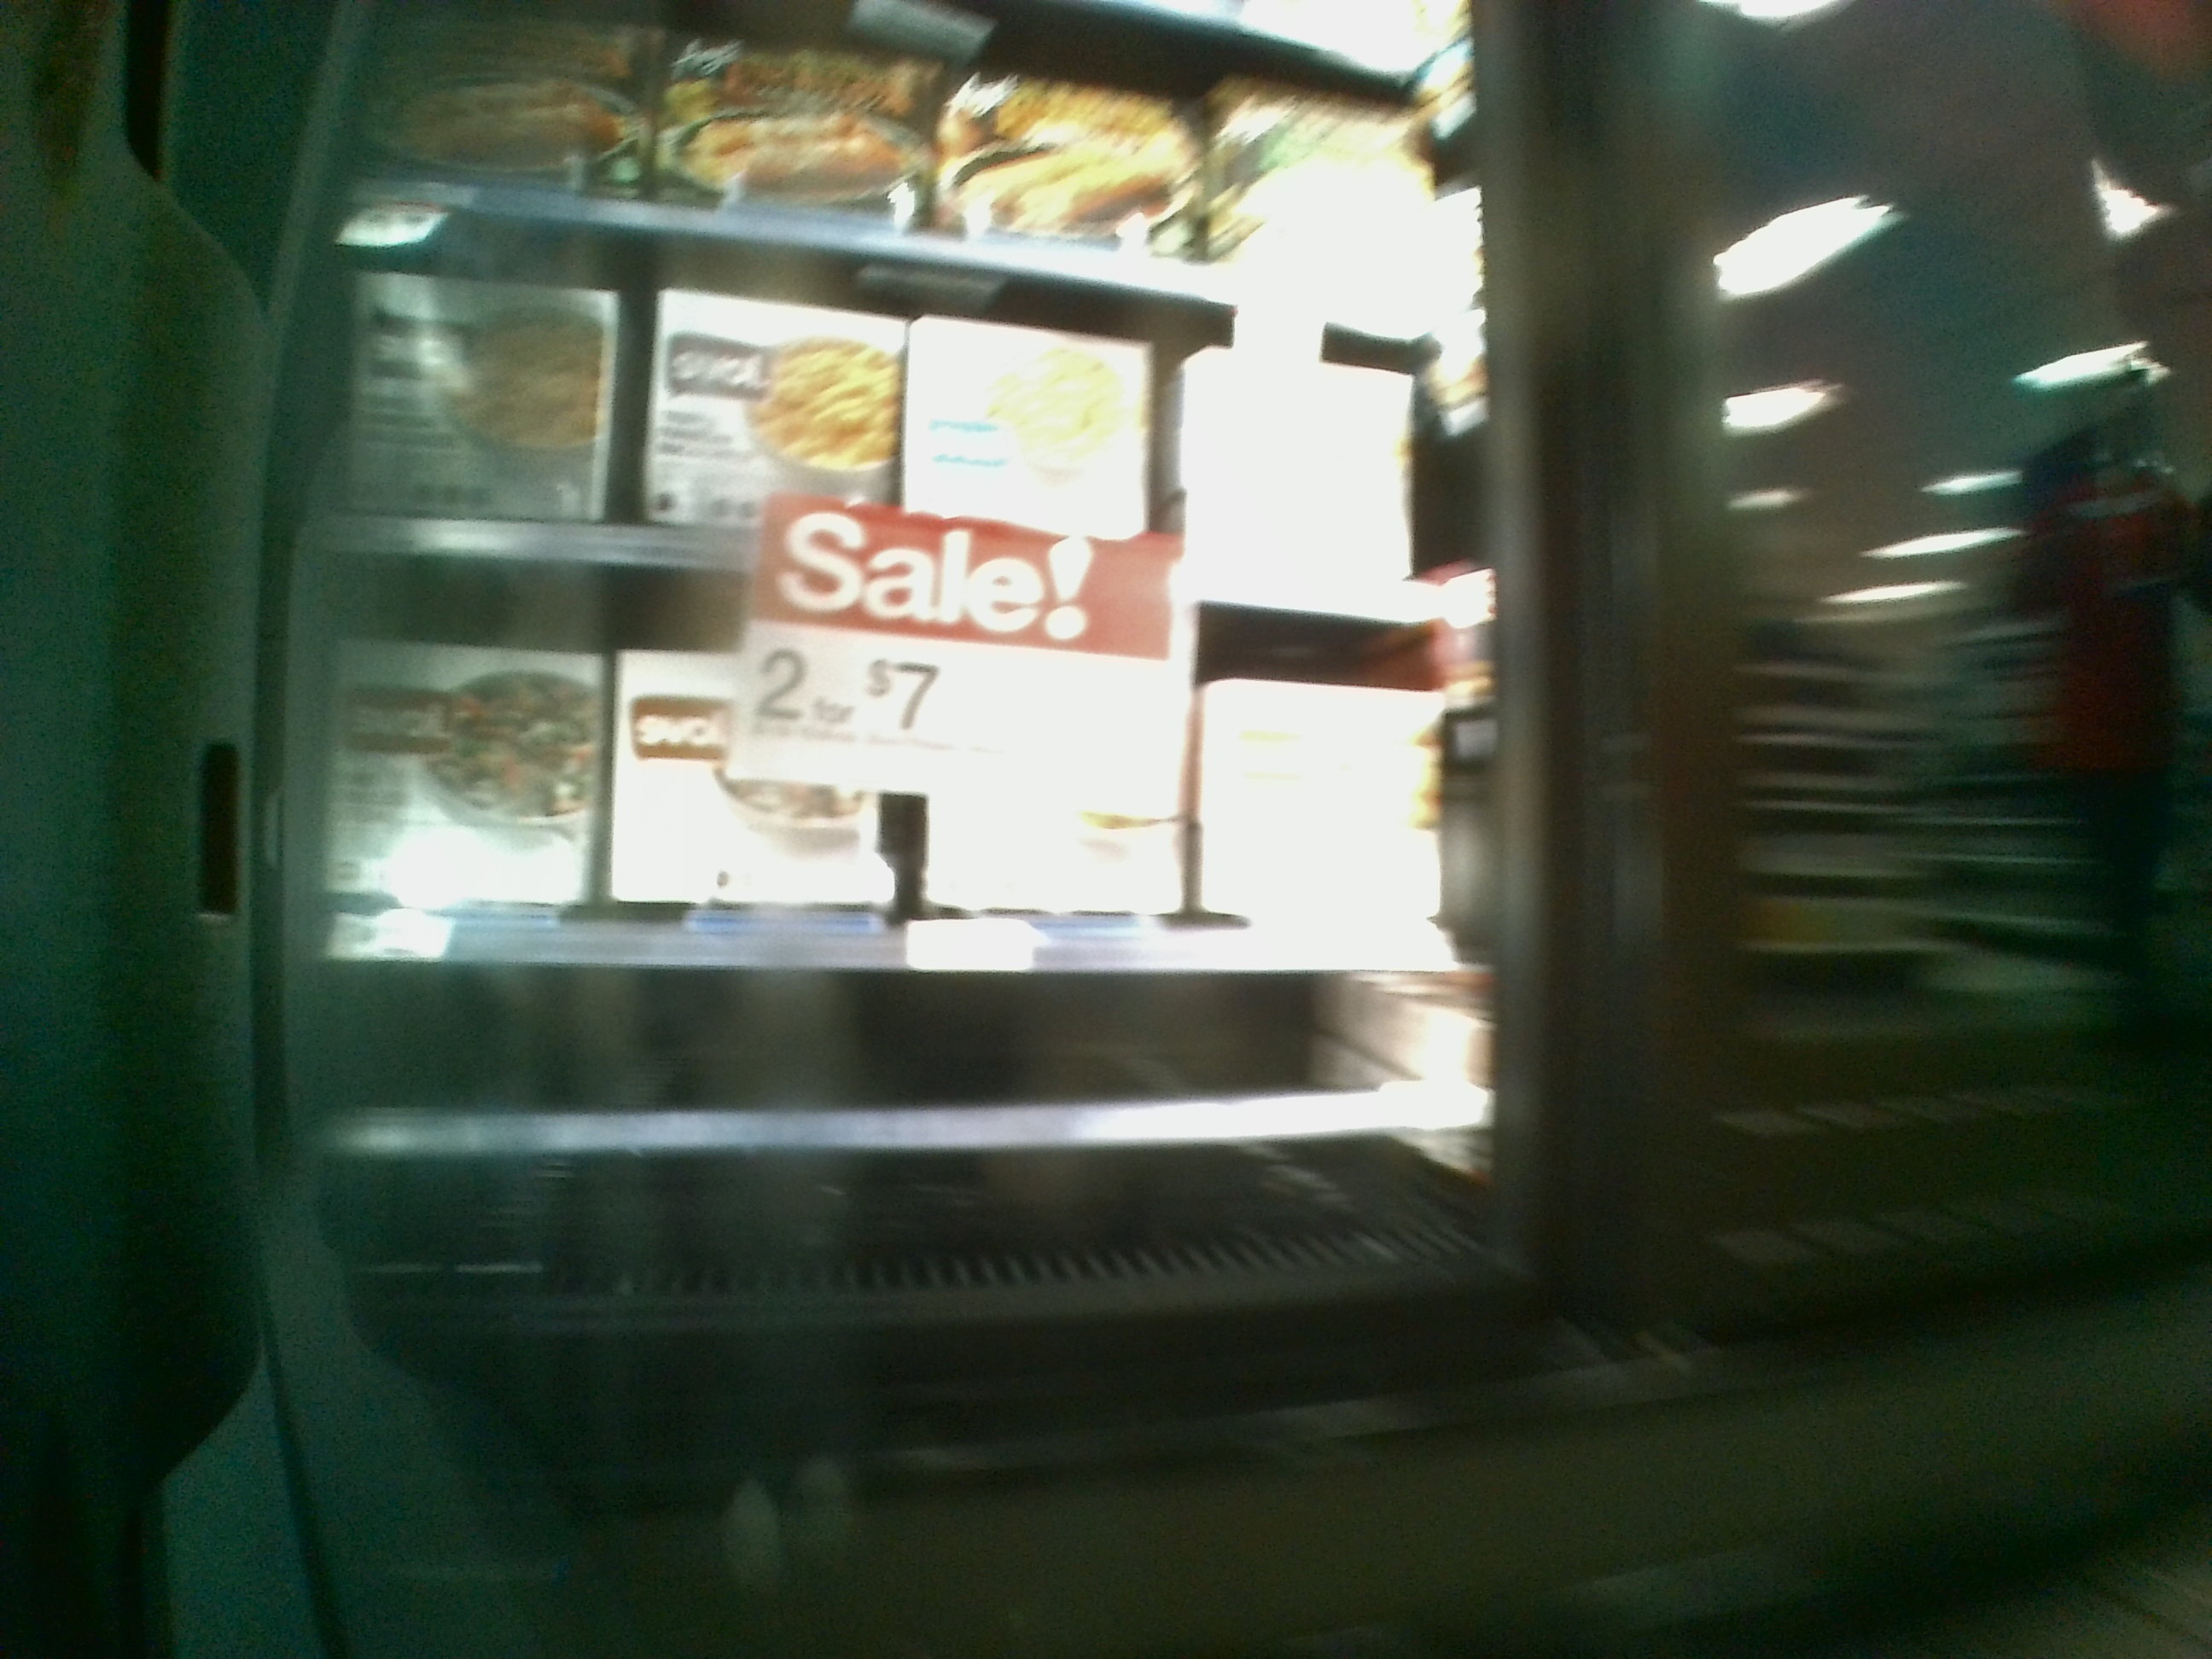shelf: (334, 606, 1480, 969), (317, 289, 1458, 605), (345, 971, 1467, 1263)
